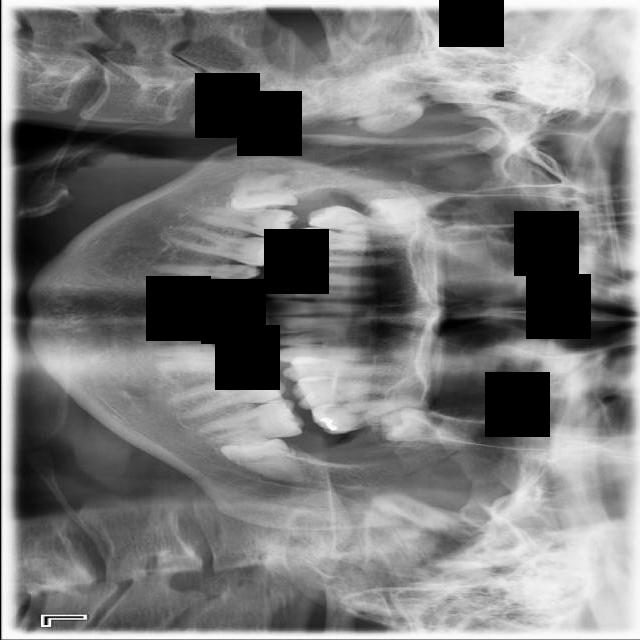3M ESPE Implant: (366, 190, 453, 226)
52: (309, 394, 371, 440), (289, 228, 337, 252), (352, 420, 370, 429), (320, 427, 330, 433)
73: (63, 588, 76, 594)
BioHorizons Implant: (311, 390, 428, 437)
BioLife Implant: (378, 406, 478, 447)
Biomet 3i Implant: (217, 422, 317, 489)
Blue Sky Bio Implant: (192, 397, 306, 449)
Caries: (305, 202, 420, 240)
Implant: (190, 205, 299, 239)
Keystone Dental Implant: (223, 161, 298, 219)
